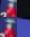potion: (0, 17, 17, 37), (0, 0, 17, 17)
